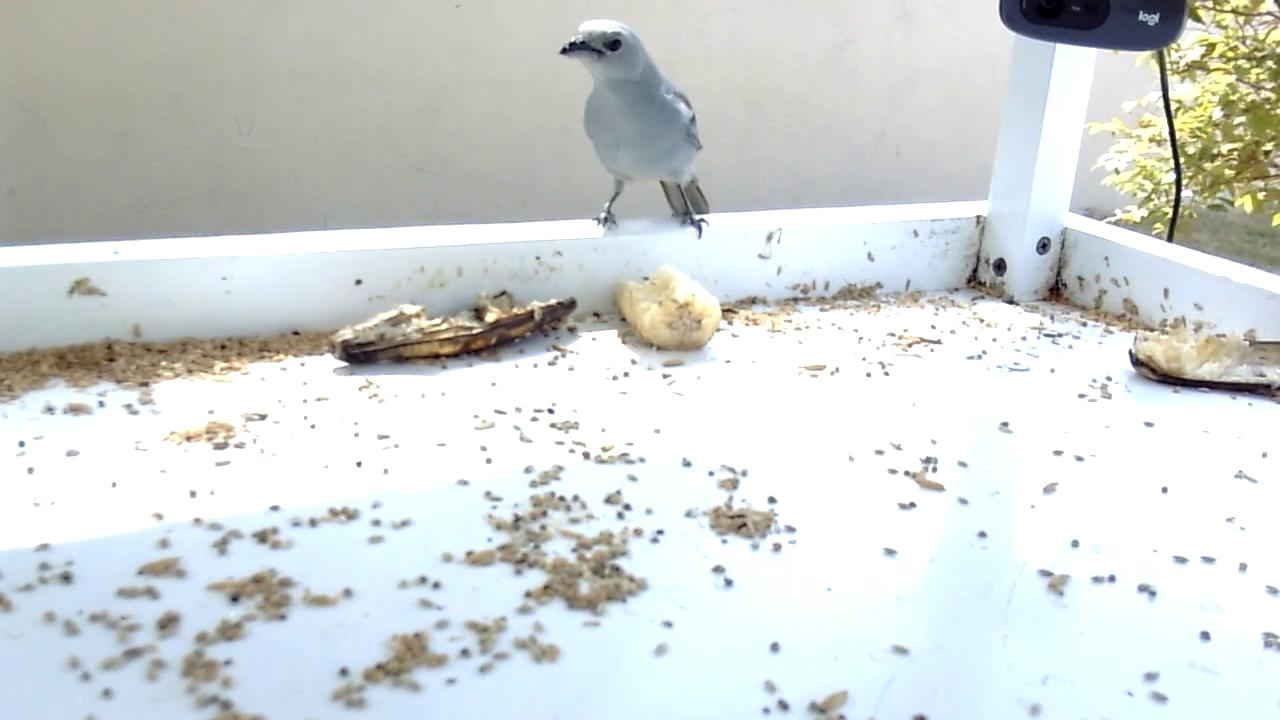sanhaco_da_amazonia: (560, 18, 712, 241)
